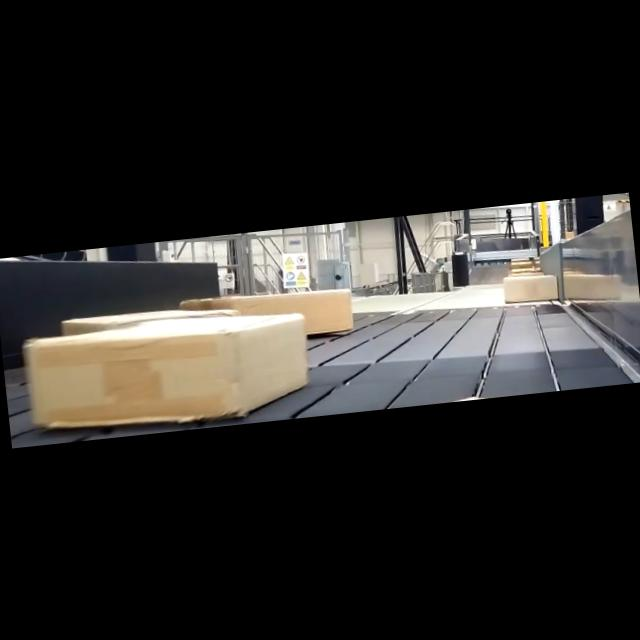box: (21, 306, 314, 440), (182, 280, 360, 350), (502, 270, 560, 308)
